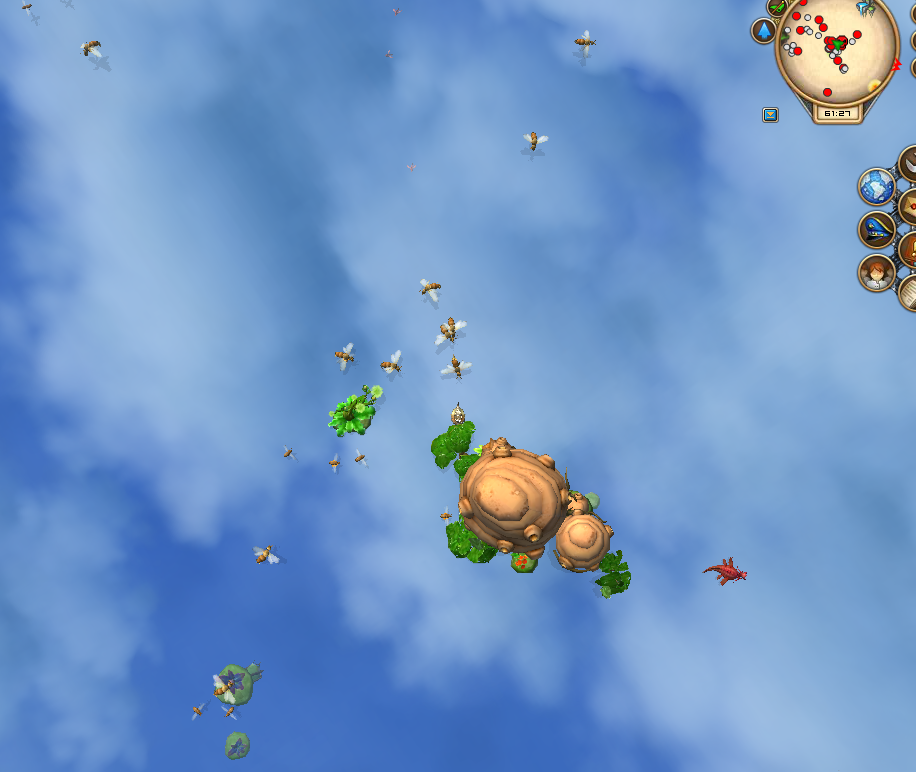dandelion-full: (324, 383, 387, 442)
